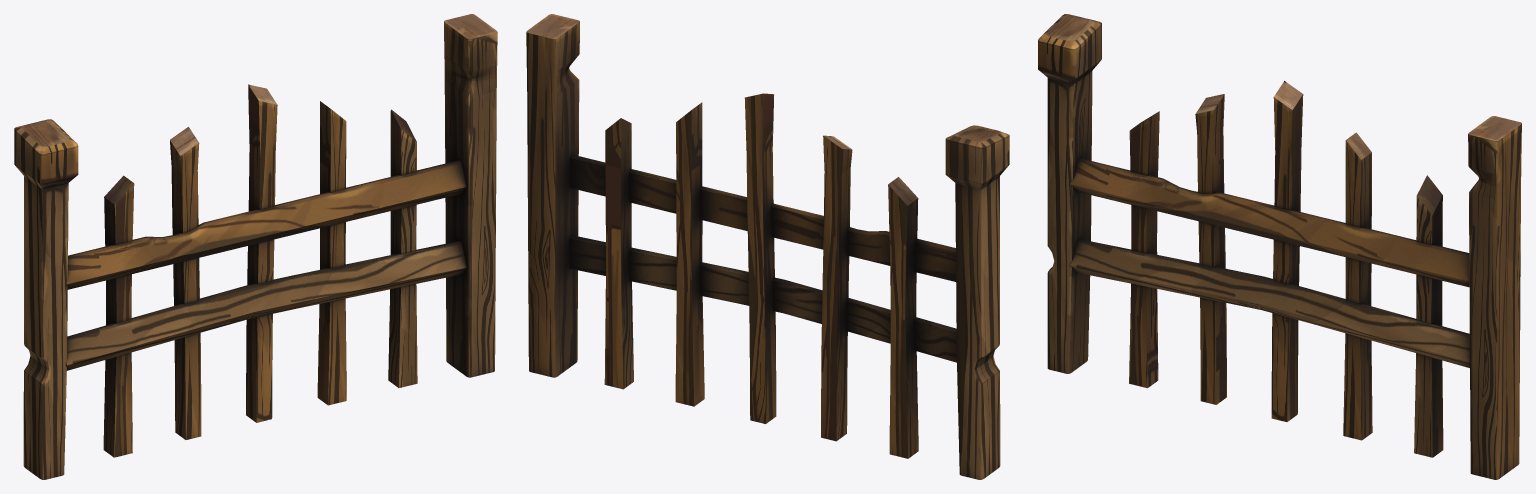
The model's file is BaseFence.fbx.
3 renders of one model, left to right at view 1: azimuth 30°, elevation 25°; view 2: azimuth 150°, elevation 25°; view 3: azimuth 330°, elevation 25°, orthographic.
Parts seen in each view (by area): view 1: wooden Planks3; view 2: wooden Planks3; view 3: wooden Planks3.
Boxes of the visible parts, x1,y1,x2,y2 form: wooden Planks3: (14,14,497,479); wooden Planks3: (526,14,1009,479); wooden Planks3: (1038,14,1521,479).
Bounding box in the file's own units: 98.36 × 69.55 × 10.42.
1 material, 1 textured.
